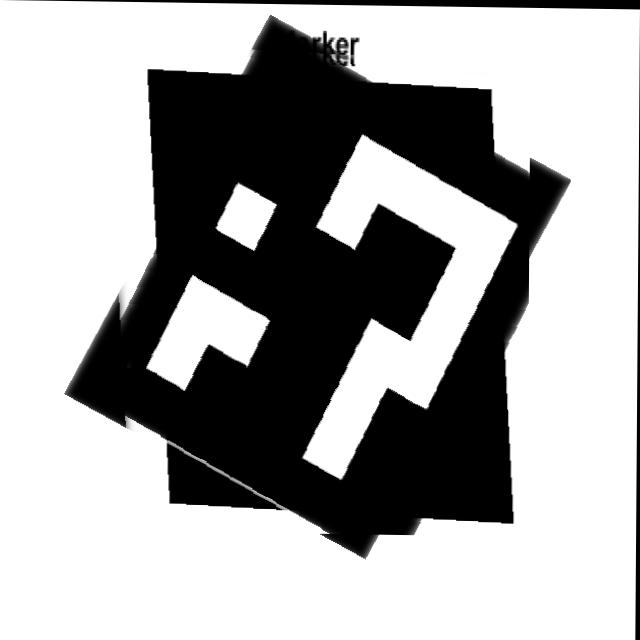aruco: (103, 40, 531, 535)
